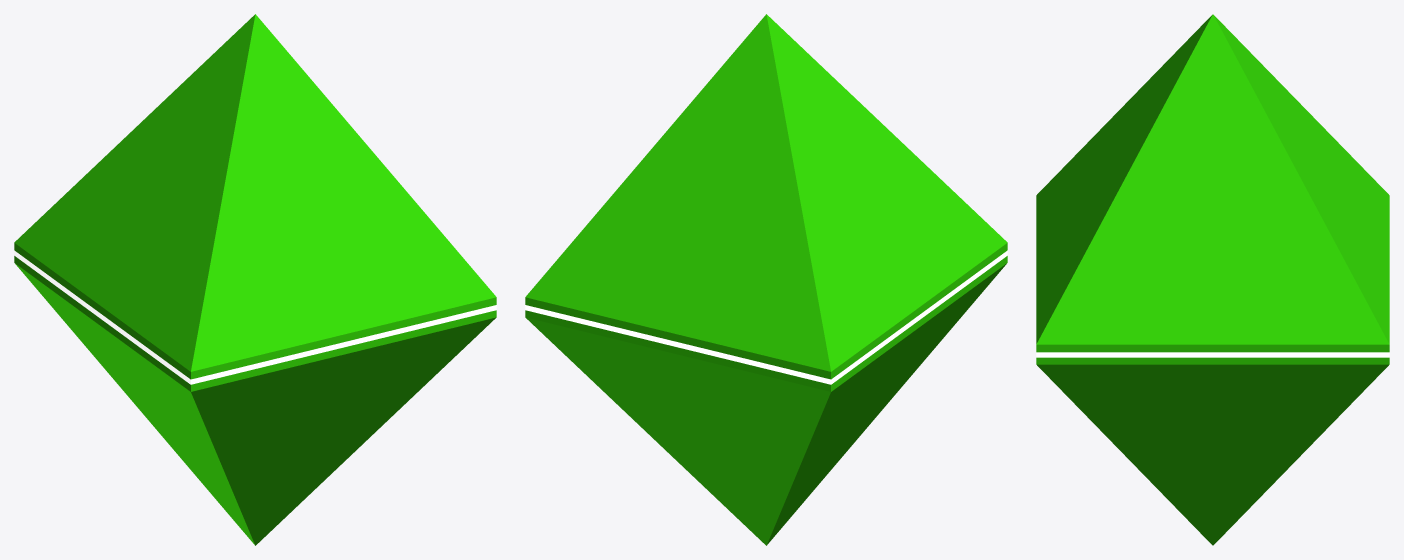
File: highlight.glb
3 views of the same model, side by side, from view 1: azimuth 30°, elevation 25°; view 2: azimuth 150°, elevation 25°; view 3: azimuth 270°, elevation 25° (orthographic).
Parts seen in each view (by area): view 1: Cube; view 2: Cube; view 3: Cube.
Boxes of the visible parts, x1=… form: Cube: x1=14, y1=14, x2=496, y2=545; Cube: x1=525, y1=14, x2=1007, y2=545; Cube: x1=1036, y1=14, x2=1389, y2=545.
Size of the model in its own units: 2 by 3.32 by 2.
